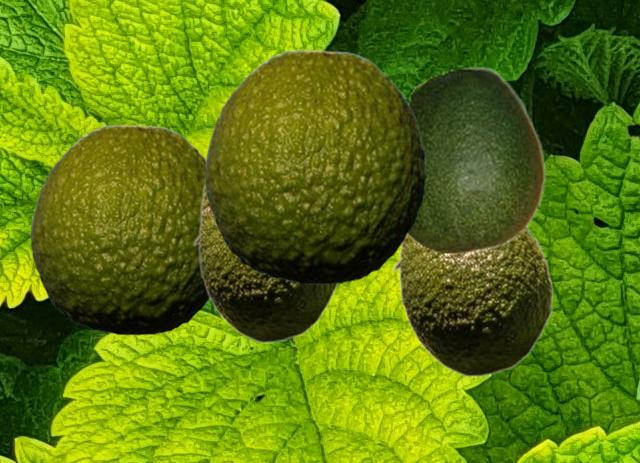avocado: (204, 49, 424, 283), (30, 124, 210, 334), (405, 66, 545, 253), (192, 177, 339, 342), (392, 226, 553, 376)
